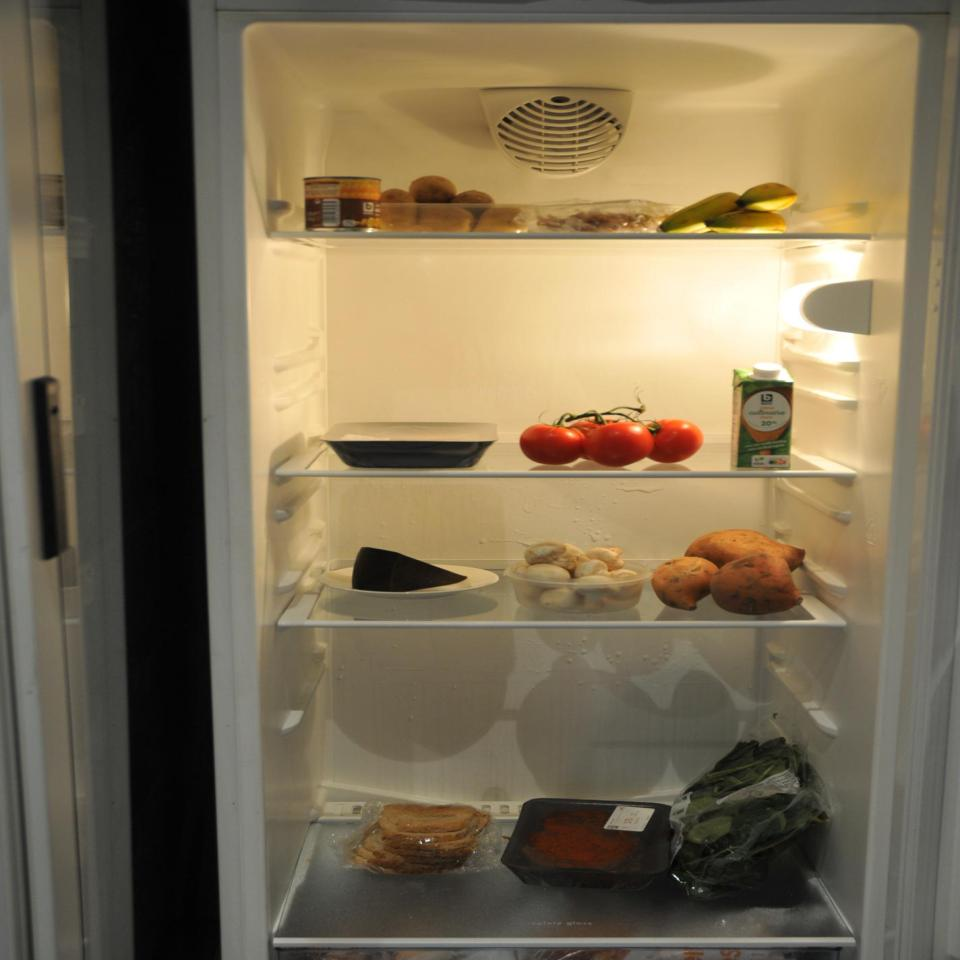Plátano: (656, 180, 800, 236)
Queso: (347, 544, 475, 593)
Tomate: (511, 386, 709, 469)
